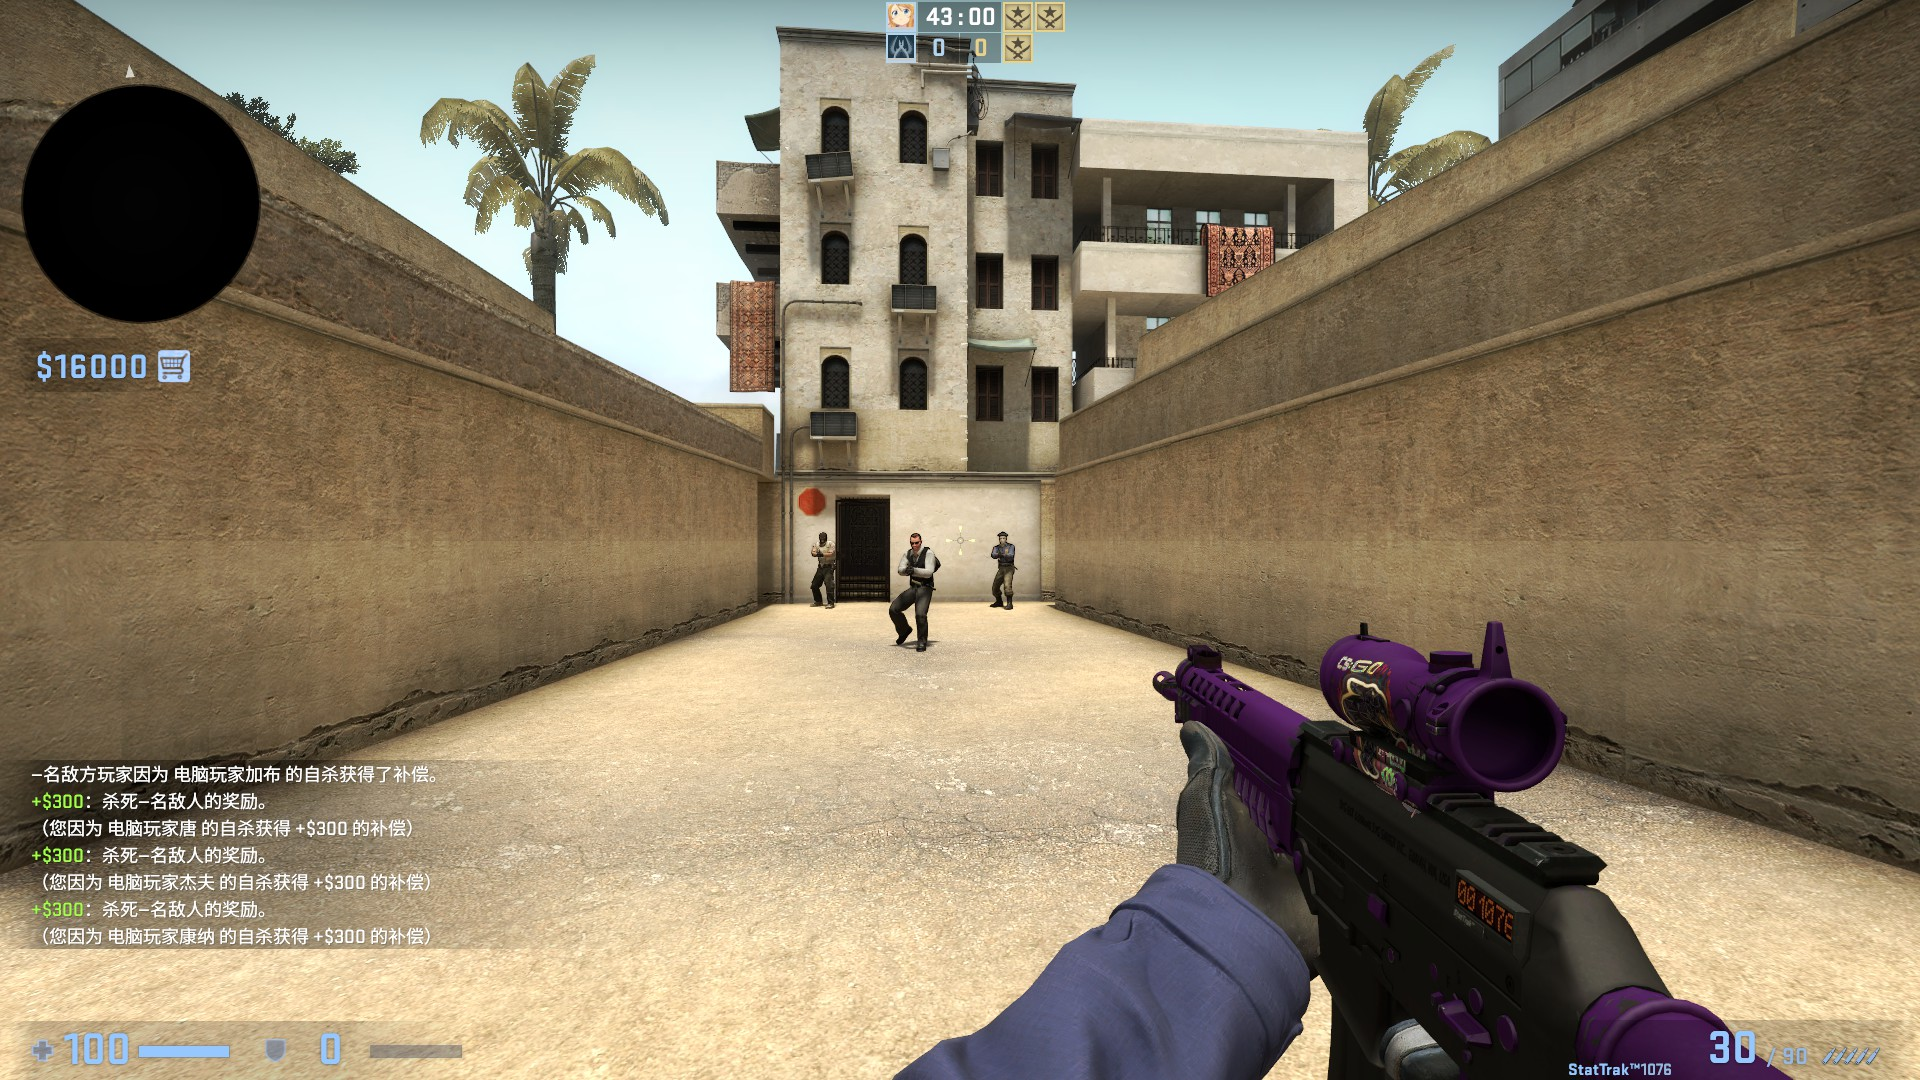head: (905, 532, 923, 551), (996, 529, 1007, 546), (815, 529, 826, 545)
